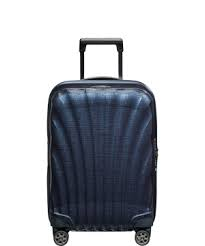suitcase: (44, 35, 160, 246)
